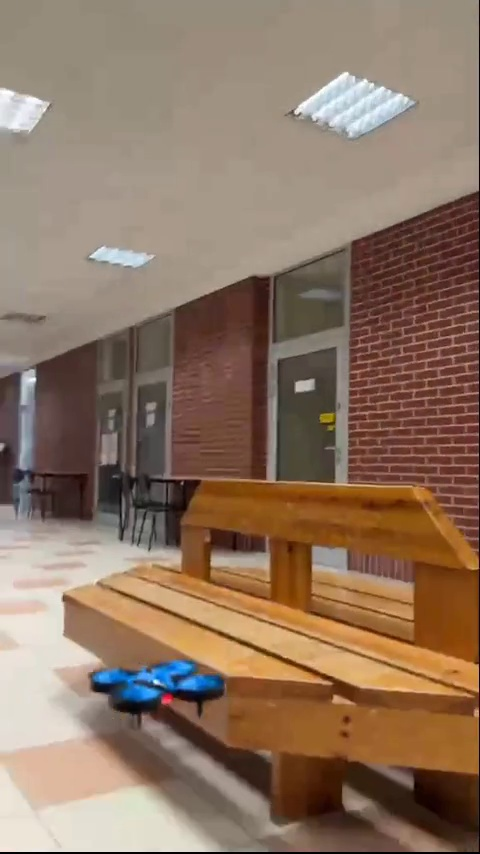drone: (95, 658, 218, 722)
